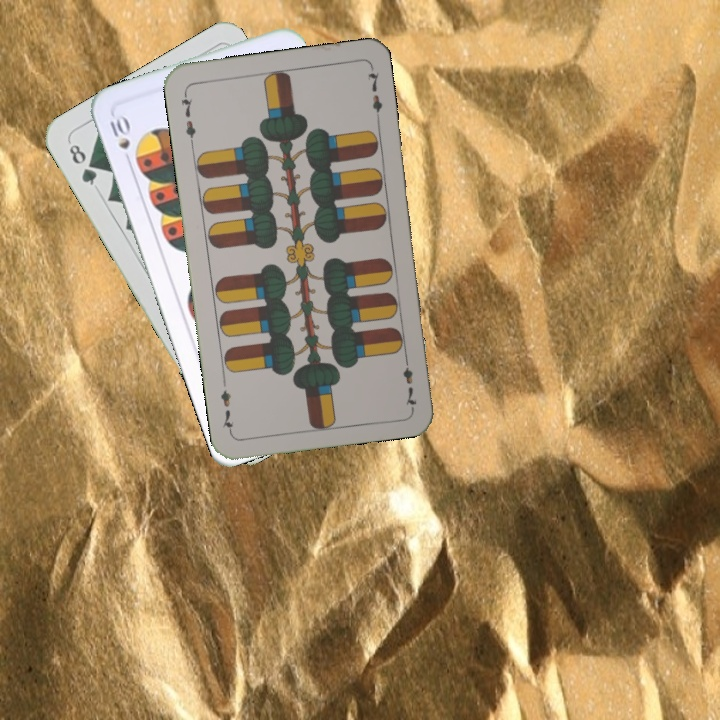E7: (177, 88, 199, 147), (398, 351, 419, 410)
G8: (65, 138, 100, 188)
S10: (106, 111, 134, 168)
